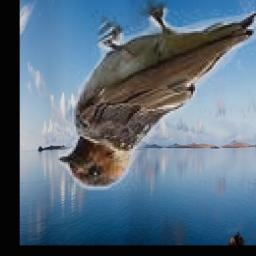Swallow: (58, 0, 256, 191)
